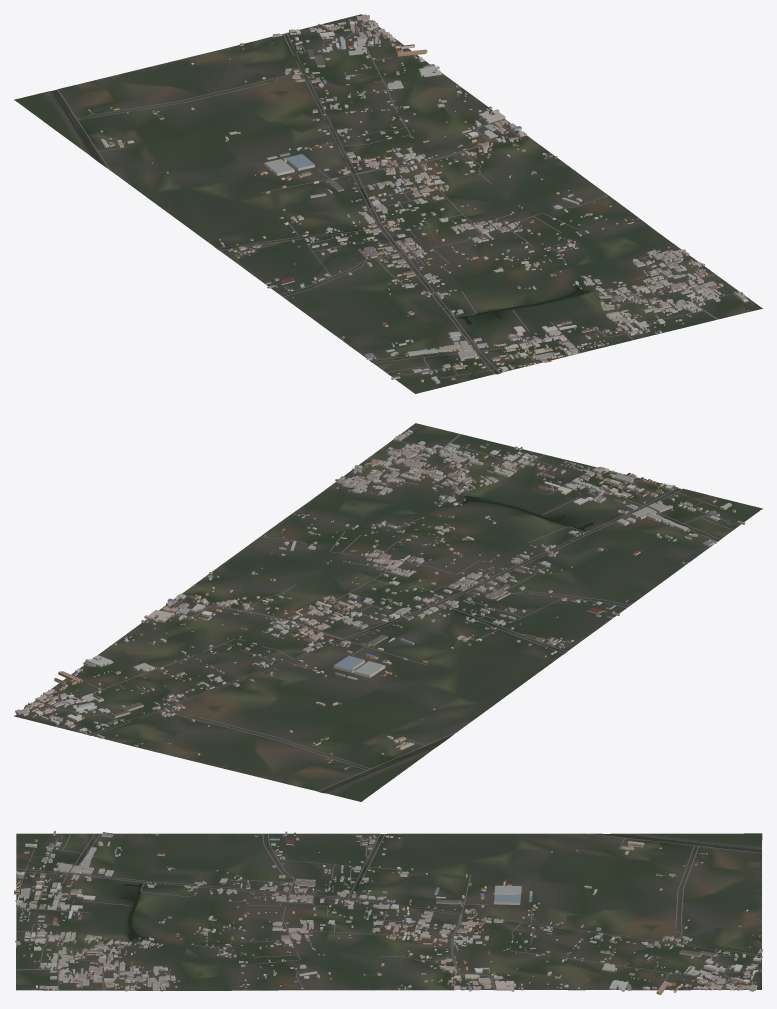
The picture shows the model from 3 angles, top to bottom: view 1: azimuth 30°, elevation 25°; view 2: azimuth 150°, elevation 25°; view 3: azimuth 270°, elevation 25°; orthographic projection. The views are drawn at different scales.
Visible parts, largest first — view 1: ground, buildings, roads, water; view 2: ground, buildings, roads, water; view 3: ground, buildings, roads, water.
Boxes of the visible parts, <box> form: ground: <box>14,14,762,393</box>; buildings: <box>88,14,749,383</box>; roads: <box>57,25,743,378</box>; water: <box>52,90,589,357</box>; ground: <box>14,423,762,801</box>; buildings: <box>15,426,745,769</box>; roads: <box>35,433,733,791</box>; water: <box>275,496,692,792</box>; ground: <box>16,833,762,990</box>; buildings: <box>14,831,762,994</box>; roads: <box>16,833,761,990</box>; water: <box>84,833,761,940</box>.
Size of the model in its own units: 1452 by 18.71 by 2813.
